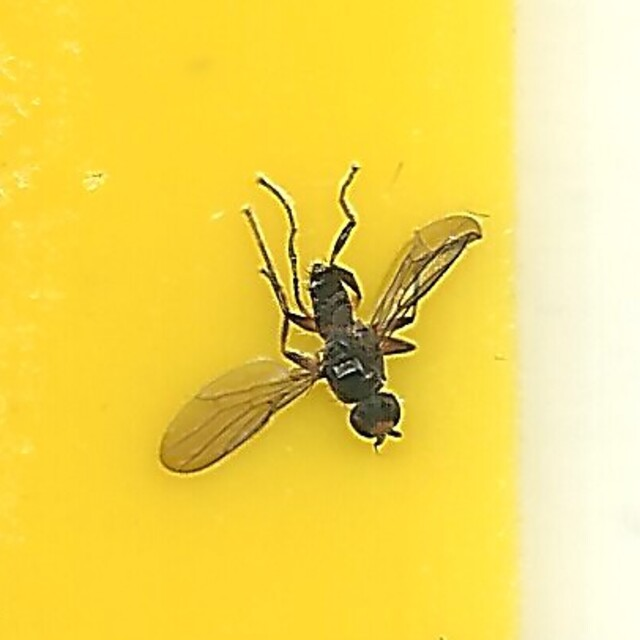Brachycera: (158, 161, 482, 479)
